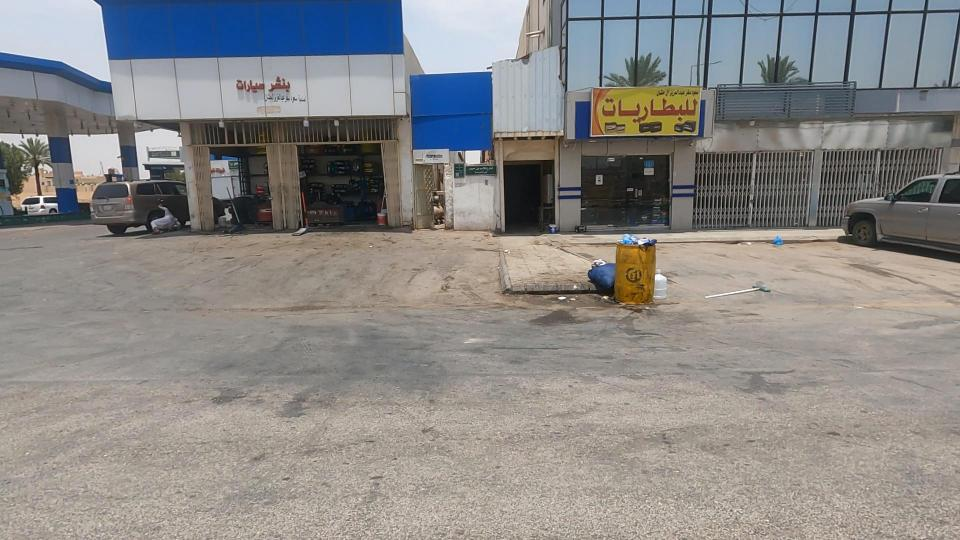GARBAGE: (570, 194, 697, 284), (548, 228, 645, 318), (674, 263, 816, 323), (611, 244, 709, 323), (730, 213, 824, 267), (524, 270, 605, 329), (526, 206, 585, 262)
